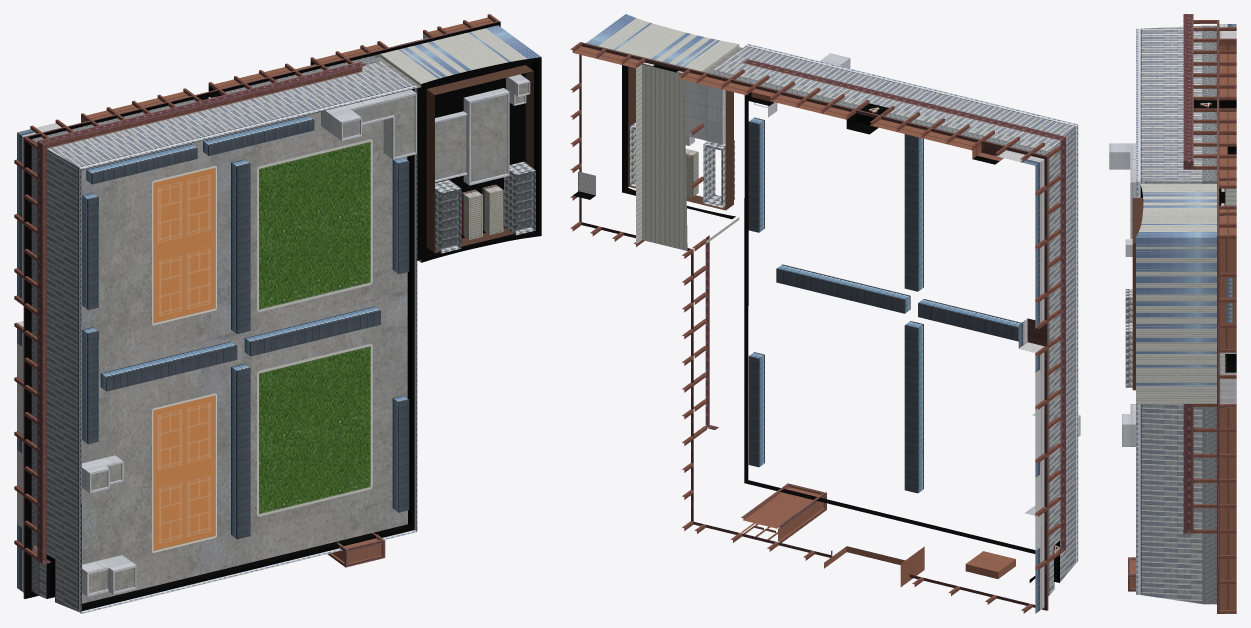
File: sgy_x_4hg.gltf
3 renders of one model, left to right at view 1: azimuth 30°, elevation 25°; view 2: azimuth 150°, elevation 25°; view 3: azimuth 270°, elevation 25°, orthographic. The views are drawn at different scales.
Visible parts, largest first — view 1: 对象047; view 2: 对象047; view 3: 对象047.
Boxes of the visible parts, x1=… form: 对象047: x1=14, y1=14, x2=541, y2=613; 对象047: x1=570, y1=14, x2=1080, y2=613; 对象047: x1=1109, y1=14, x2=1236, y2=613.
Size of the model in its own units: 164 by 155 by 40.74.
Materials: 24 (24 with a texture image).
